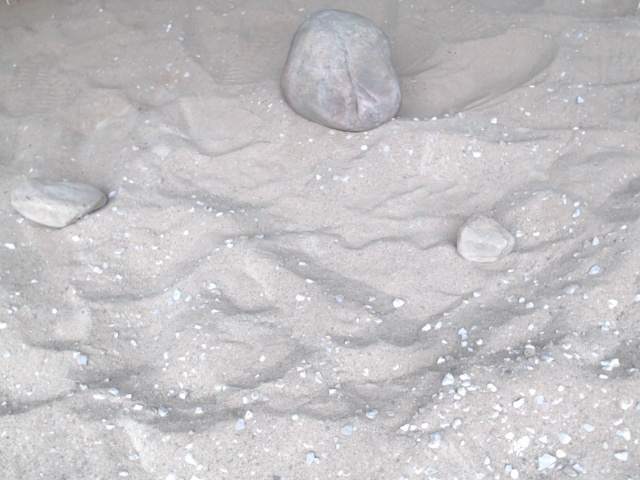rock: (274, 5, 406, 139), (5, 171, 112, 234), (451, 210, 519, 268)
